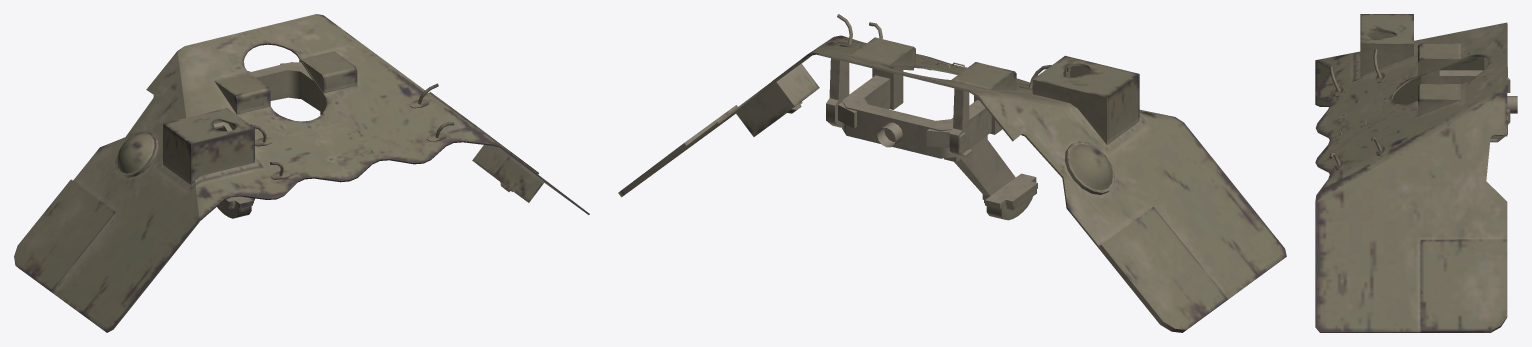
Rendered from Turret_01.glb.
3 views of the same model, side by side, from view 1: azimuth 30°, elevation 25°; view 2: azimuth 150°, elevation 25°; view 3: azimuth 270°, elevation 25° (orthographic). The views are drawn at different scales.
Visible parts, largest first — view 1: set_0_group_0; view 2: set_0_group_0; view 3: set_0_group_0.
Part boxes in pixels (x1=…): set_0_group_0: x1=14, y1=14, x2=589, y2=332; set_0_group_0: x1=618, y1=14, x2=1286, y2=332; set_0_group_0: x1=1315, y1=14, x2=1517, y2=332.
Bounding box in the file's own units: 1.67 × 0.5639 × 0.6224.
Materials: 1 (1 with a texture image).
